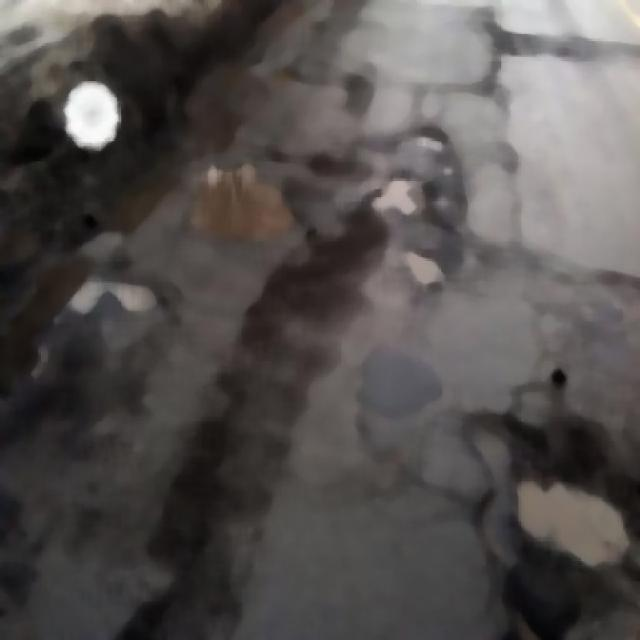Pothole: (507, 407, 640, 601), (363, 124, 463, 250), (194, 141, 294, 247), (54, 264, 160, 324)
